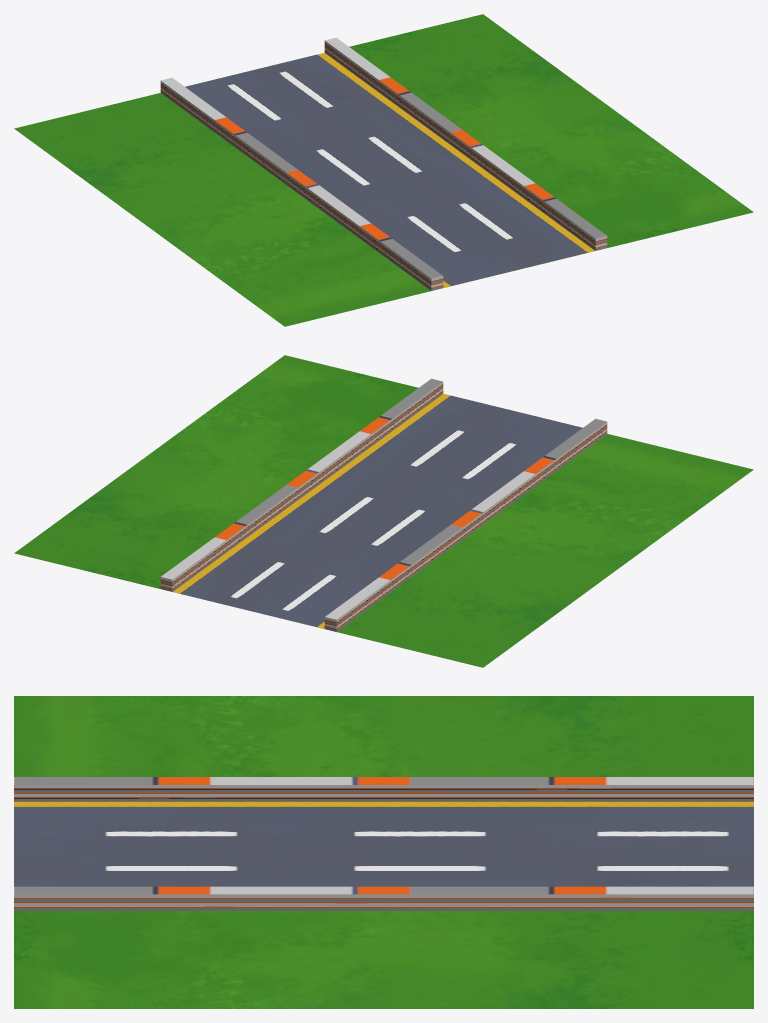
The model's file is road_001.FBX.
The picture shows the model from 3 angles, top to bottom: view 1: azimuth 30°, elevation 25°; view 2: azimuth 150°, elevation 25°; view 3: azimuth 270°, elevation 25°; orthographic projection. The views are drawn at different scales.
Parts seen in each view (by area): view 1: Plane002, Plane001, Box026, Box025; view 2: Plane002, Plane001, Box026, Box025; view 3: Plane002, Plane001, Box025, Box026.
Boxes of the visible parts, bbox=[...] form: Plane002: bbox=[14, 14, 753, 326]; Plane001: bbox=[185, 52, 595, 287]; Box026: bbox=[160, 77, 443, 290]; Box025: bbox=[324, 37, 607, 250]; Plane002: bbox=[14, 355, 753, 667]; Plane001: bbox=[172, 393, 582, 628]; Box026: bbox=[324, 418, 607, 631]; Box025: bbox=[160, 378, 443, 591]; Plane002: bbox=[14, 696, 753, 1008]; Plane001: bbox=[14, 801, 753, 886]; Box025: bbox=[14, 886, 753, 910]; Box026: bbox=[14, 777, 753, 801].
Bounding box in the file's own units: 400 × 10 × 400.
